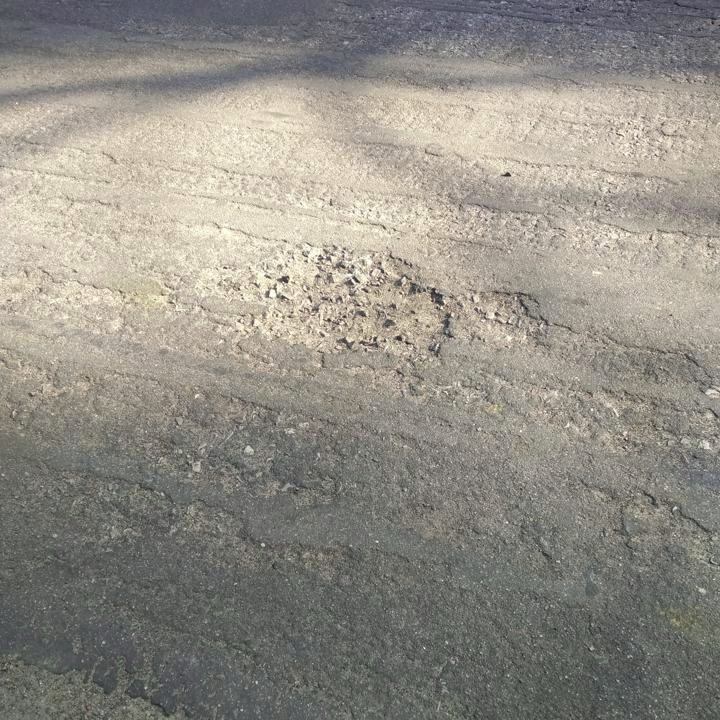pothole: (253, 249, 454, 355), (454, 286, 543, 348)
